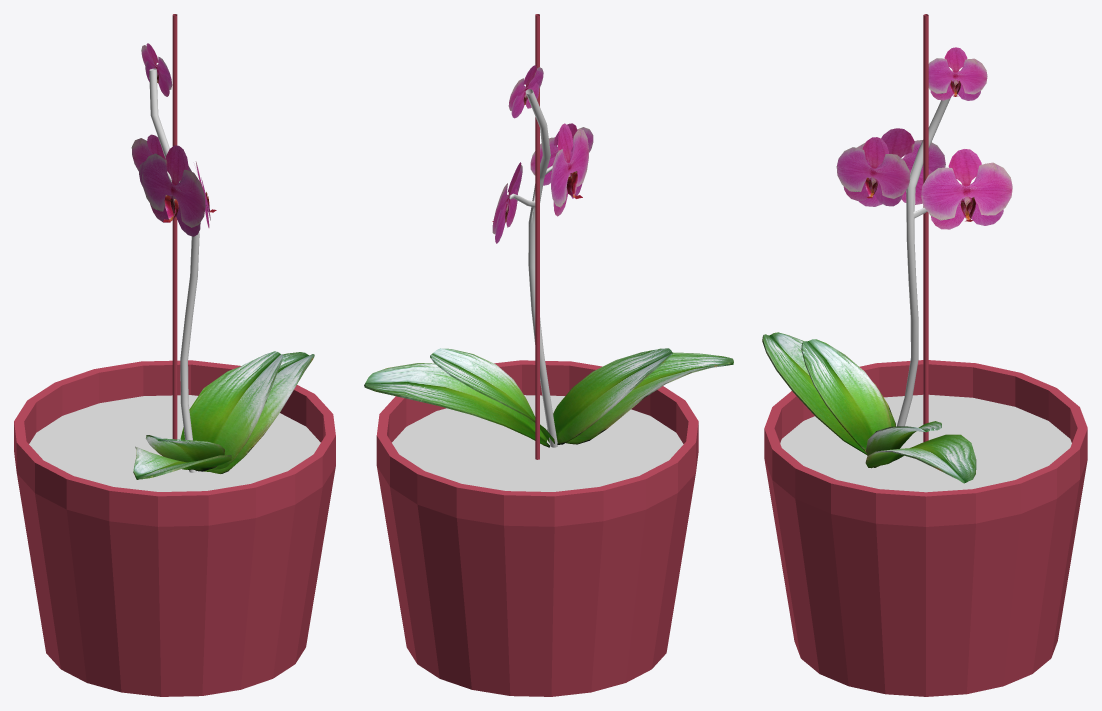
File: Orhidee.fbx
3 views of the same model, side by side, from view 1: azimuth 30°, elevation 25°; view 2: azimuth 150°, elevation 25°; view 3: azimuth 270°, elevation 25° (orthographic).
Visible parts, largest first — view 1: Cylinder, Plane, Vert.006, Vert.003, Plane.001, Vert.004, Plane.002, Plane.003, Vert.005, Vert.007; view 2: Cylinder, Plane.001, Plane.002, Plane, Plane.003, Vert.003, Vert.006, Vert.004, Vert.007, Vert.005, Vert.001; view 3: Cylinder, Vert.007, Plane.002, Vert.001, Plane.003, Vert.003, Plane.001, Vert.005, Vert.004, Vert.006, Plane.
Boxes of the visible parts, bbox=[...] form: Cylinder: bbox=[14, 360, 335, 696]; Plane: bbox=[180, 351, 283, 471]; Vert.006: bbox=[142, 145, 205, 236]; Vert.003: bbox=[149, 68, 199, 472]; Plane.001: bbox=[189, 352, 314, 473]; Vert.004: bbox=[172, 14, 177, 439]; Plane.002: bbox=[145, 435, 224, 471]; Plane.003: bbox=[133, 446, 231, 479]; Vert.005: bbox=[141, 43, 172, 96]; Vert.007: bbox=[131, 134, 191, 186]; Cylinder: bbox=[376, 360, 698, 696]; Plane.001: bbox=[364, 363, 549, 447]; Plane.002: bbox=[547, 348, 672, 444]; Plane: bbox=[430, 348, 554, 443]; Plane.003: bbox=[556, 352, 733, 444]; Vert.003: bbox=[509, 89, 557, 447]; Vert.006: bbox=[551, 123, 588, 216]; Vert.004: bbox=[535, 14, 539, 459]; Vert.007: bbox=[492, 162, 522, 243]; Vert.005: bbox=[508, 65, 543, 118]; Vert.001: bbox=[530, 123, 593, 185]; Cylinder: bbox=[764, 360, 1087, 696]; Vert.007: bbox=[921, 149, 1012, 229]; Plane.002: bbox=[801, 339, 891, 452]; Vert.001: bbox=[836, 137, 910, 206]; Plane.003: bbox=[762, 332, 895, 454]; Vert.003: bbox=[897, 97, 950, 426]; Plane.001: bbox=[865, 434, 976, 483]; Vert.005: bbox=[928, 47, 987, 100]; Vert.004: bbox=[923, 14, 928, 442]; Vert.006: bbox=[856, 128, 945, 206]; Plane: bbox=[866, 421, 941, 467].
Bounding box in the file's own units: 258 × 525 × 247.
5 materials, 2 textured.
